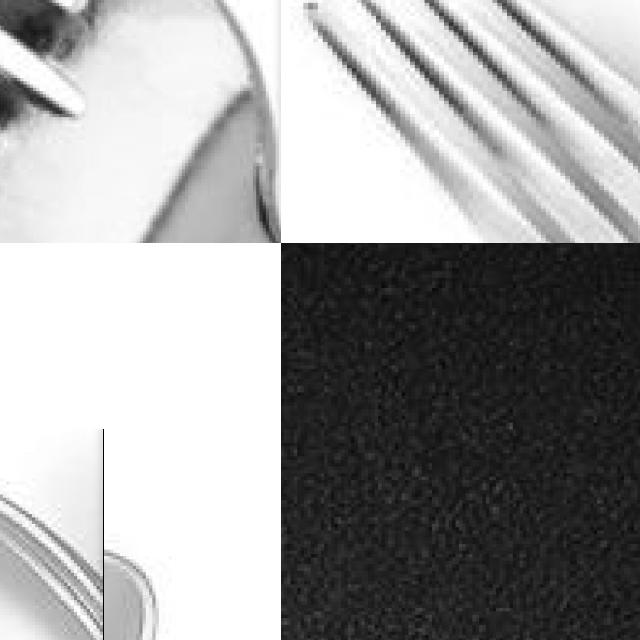forks: (316, 0, 640, 243), (0, 0, 281, 243)
spoons: (0, 474, 150, 640)
